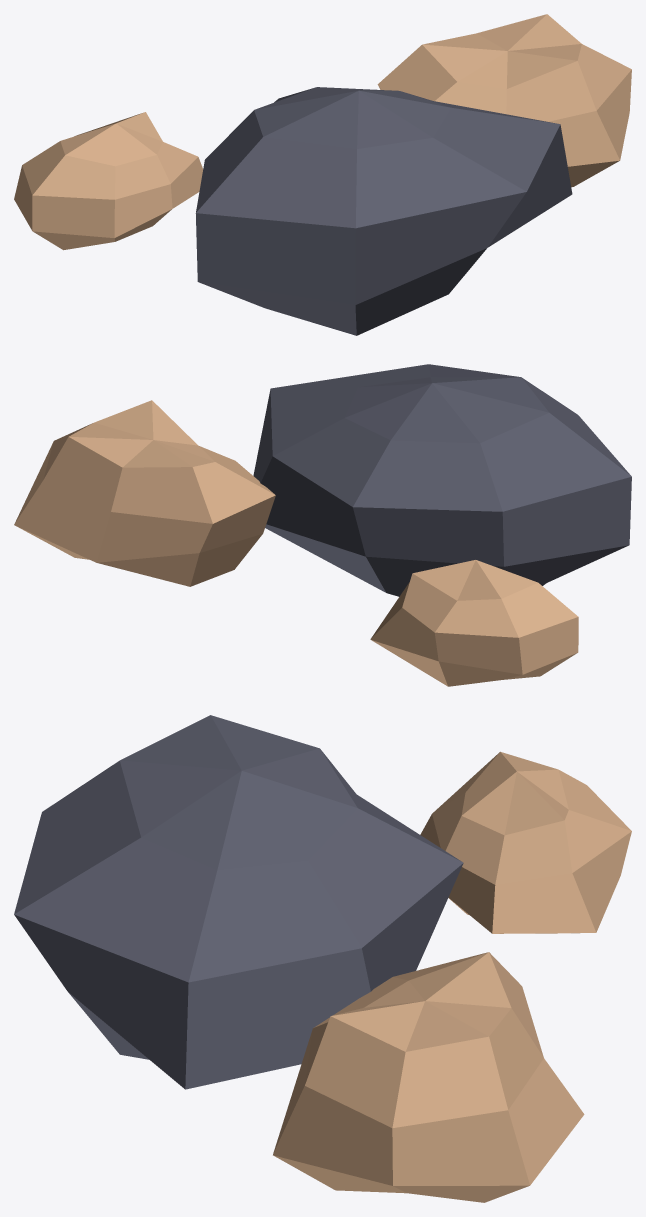
File: decor_stones.glb
The picture shows the model from 3 angles, top to bottom: view 1: azimuth 30°, elevation 25°; view 2: azimuth 150°, elevation 25°; view 3: azimuth 270°, elevation 25°; orthographic projection. The views are drawn at different scales.
Parts seen in each view (by area): view 1: decor_stones; view 2: decor_stones; view 3: decor_stones.
Boxes of the visible parts, x1=… form: decor_stones: x1=14, y1=14, x2=631, y2=335; decor_stones: x1=14, y1=364, x2=631, y2=686; decor_stones: x1=14, y1=715, x2=631, y2=1202.
Size of the model in its own units: 0.3938 by 0.1456 by 0.2695.
